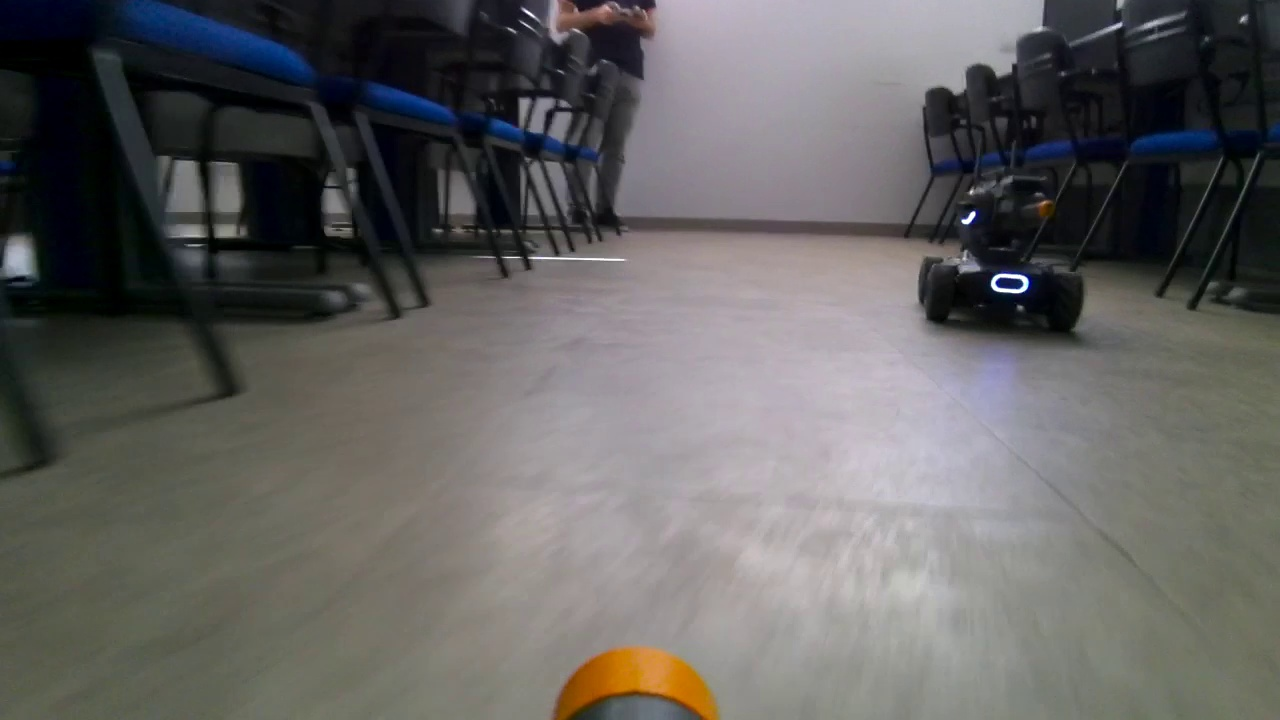robot: (916, 125, 1095, 336)
